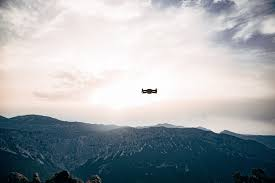drone: (140, 88, 156, 94)
